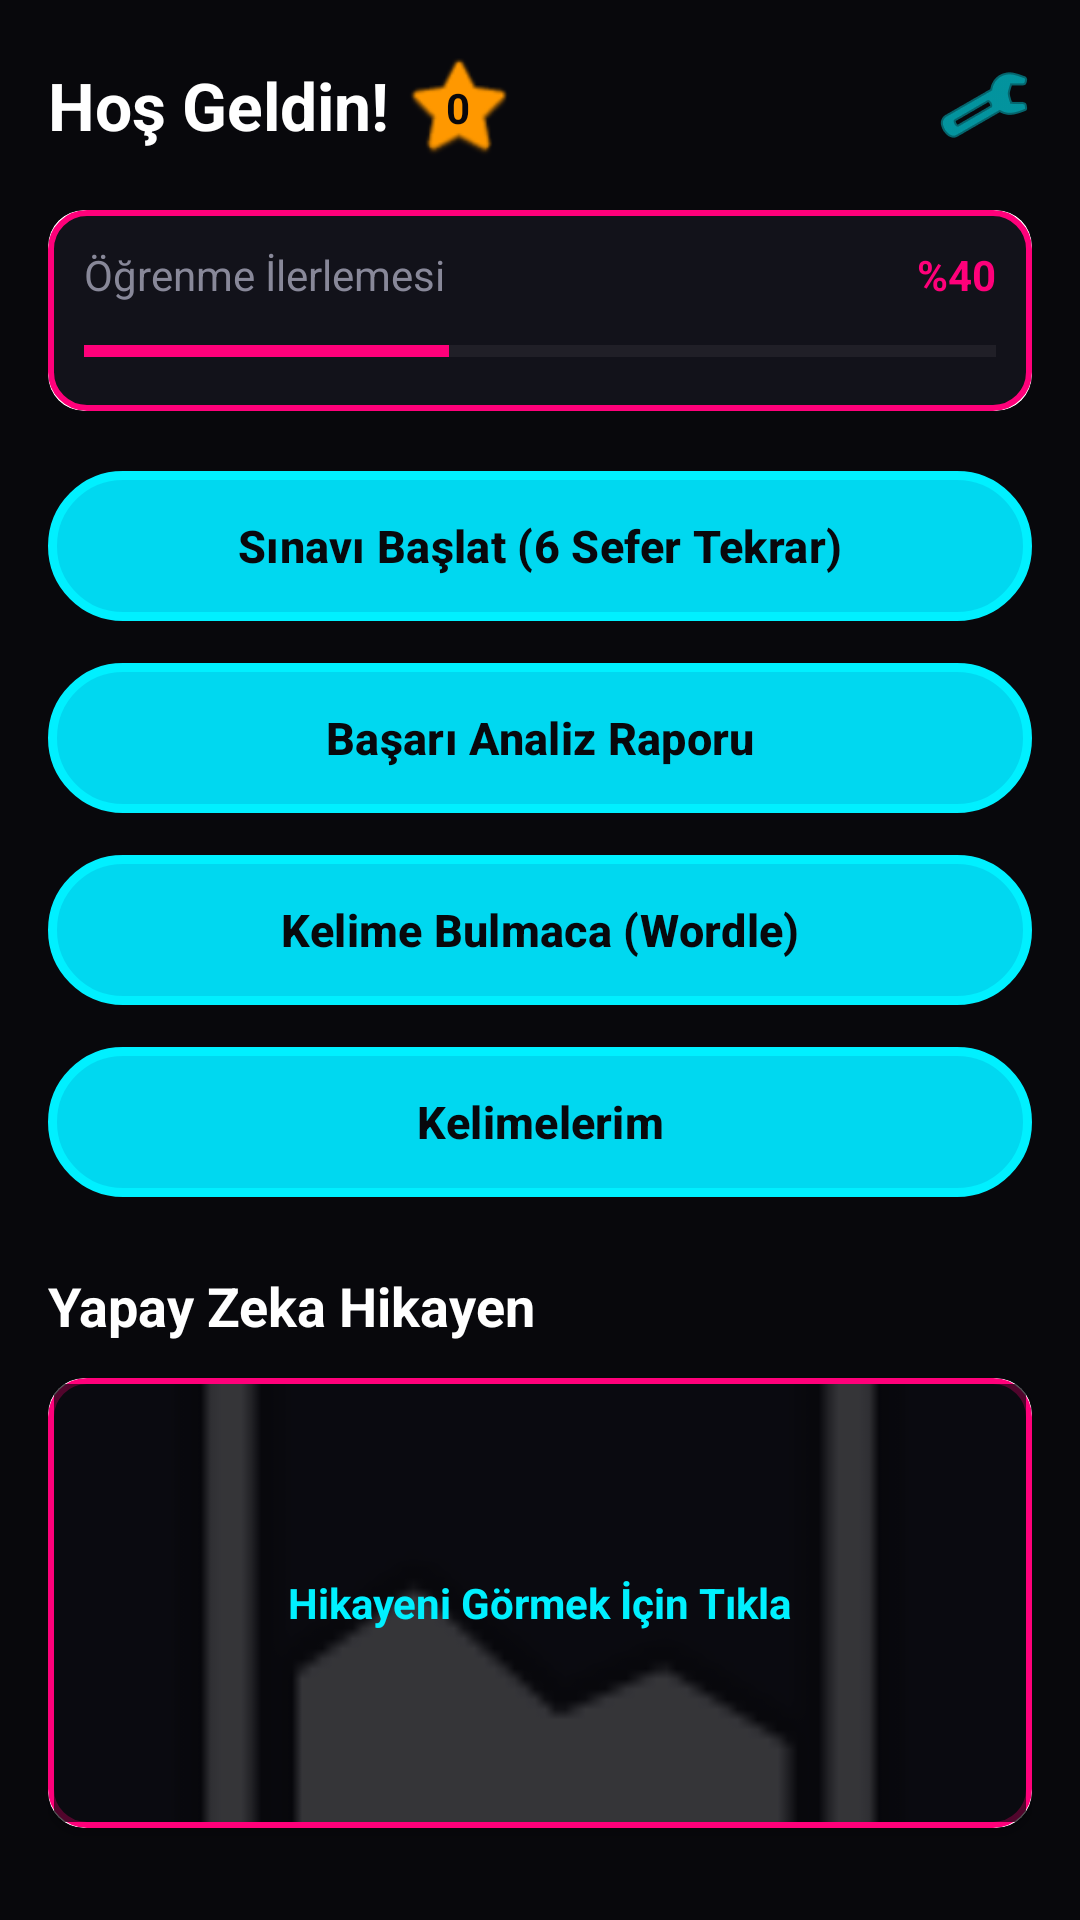

Where to tap for icons on this 1080×1920 app screen, as point (x, y):
manage: point (984, 105)
star on: point (459, 106)
